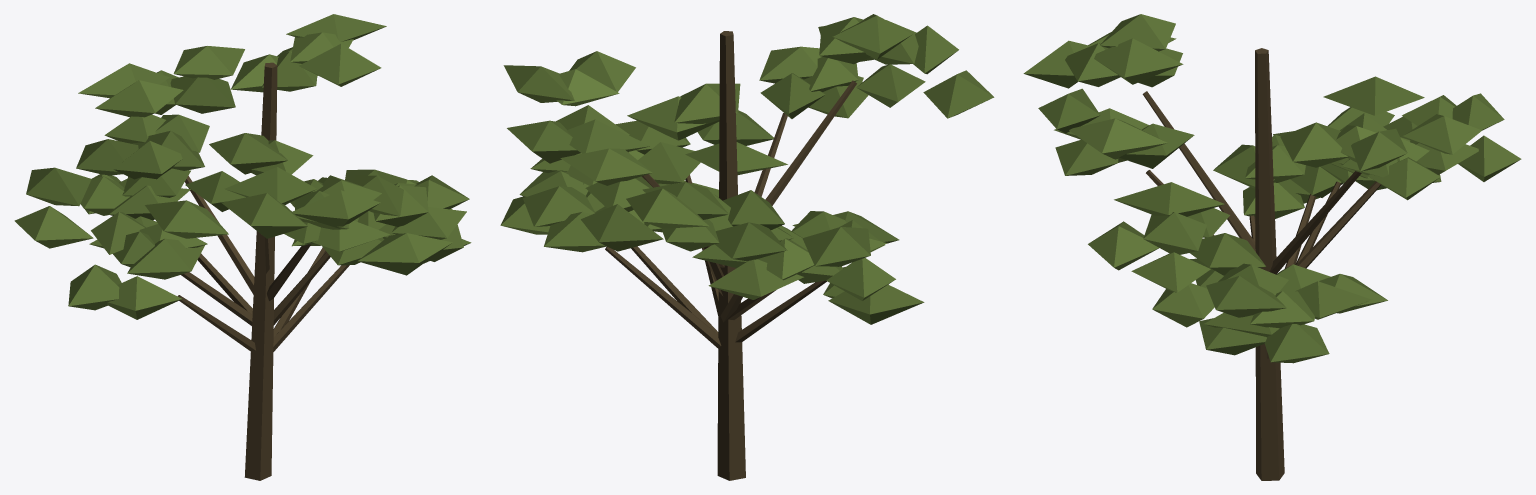
The model's file is tree-1.glb.
3 views of the same model, side by side, from view 1: azimuth 30°, elevation 25°; view 2: azimuth 150°, elevation 25°; view 3: azimuth 270°, elevation 25° (orthographic). The views are drawn at different scales.
Parts seen in each view (by area): view 1: Branched crown.002; view 2: Branched crown.002; view 3: Branched crown.002.
Boxes of the visible parts, x1,y1,x2,y2 form: Branched crown.002: [14, 14, 471, 480]; Branched crown.002: [500, 14, 994, 480]; Branched crown.002: [1023, 14, 1521, 480].
Bounding box in the file's own units: 1.11 × 1.1 × 1.16.
